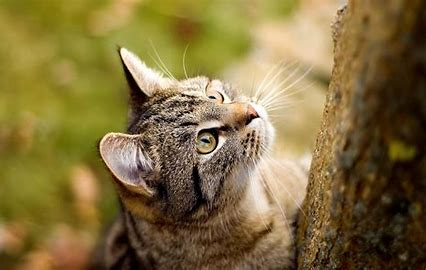cat: (95, 34, 302, 251)
